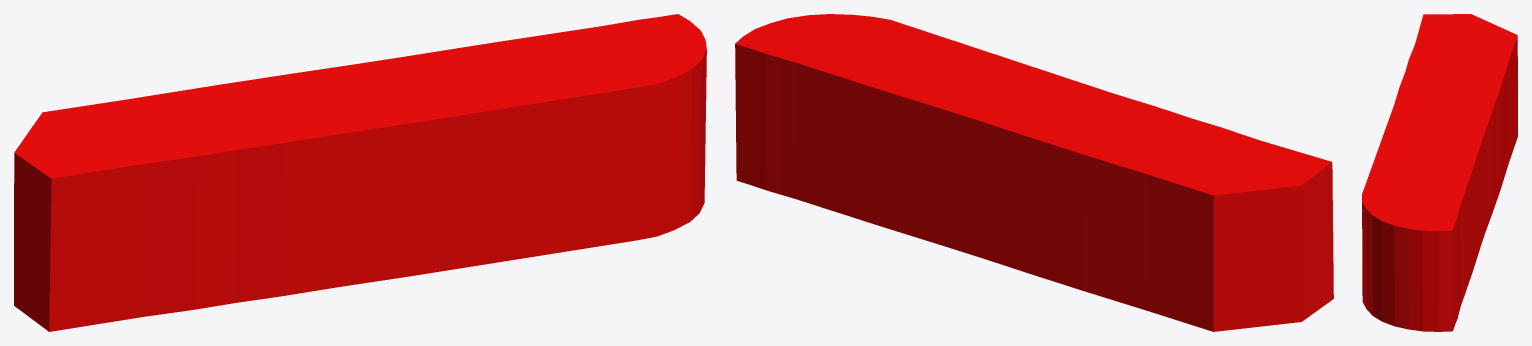
3 views of the same model, side by side, from view 1: azimuth 30°, elevation 25°; view 2: azimuth 150°, elevation 25°; view 3: azimuth 270°, elevation 25° (orthographic). The views are drawn at different scales.
Visible parts, largest first — view 1: 8_3; view 2: 8_3; view 3: 8_3.
Part boxes in pixels (left/top/right/bottom): 8_3: left=14, top=14, right=706, bottom=331; 8_3: left=735, top=14, right=1333, bottom=331; 8_3: left=1362, top=14, right=1517, bottom=331.
Bounding box in the file's own units: 0.0507 × 0.0121 × 0.0158.
Materials: 1 (1 with a texture image).
